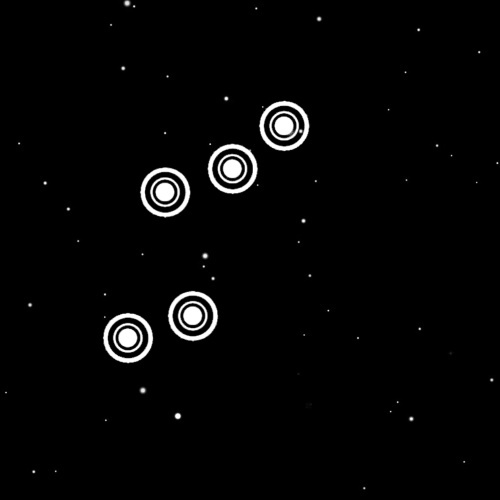lyra: (88, 79, 323, 384)
